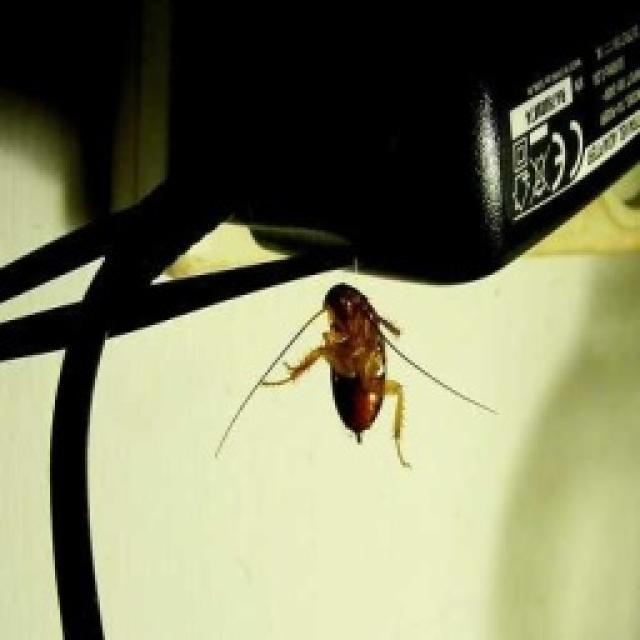cockroach: (211, 276, 501, 472)
